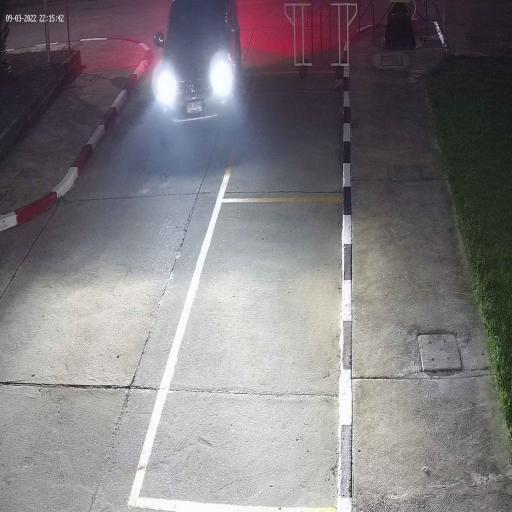car: (152, 0, 244, 136)
